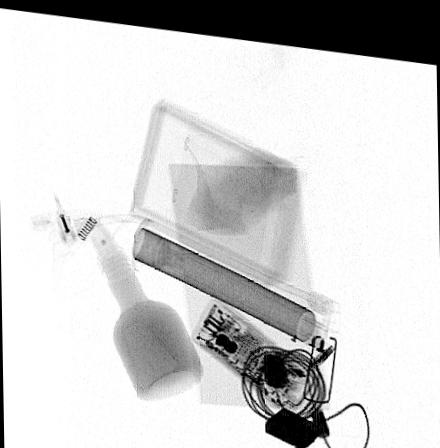Lighter: (264, 397, 320, 442)
